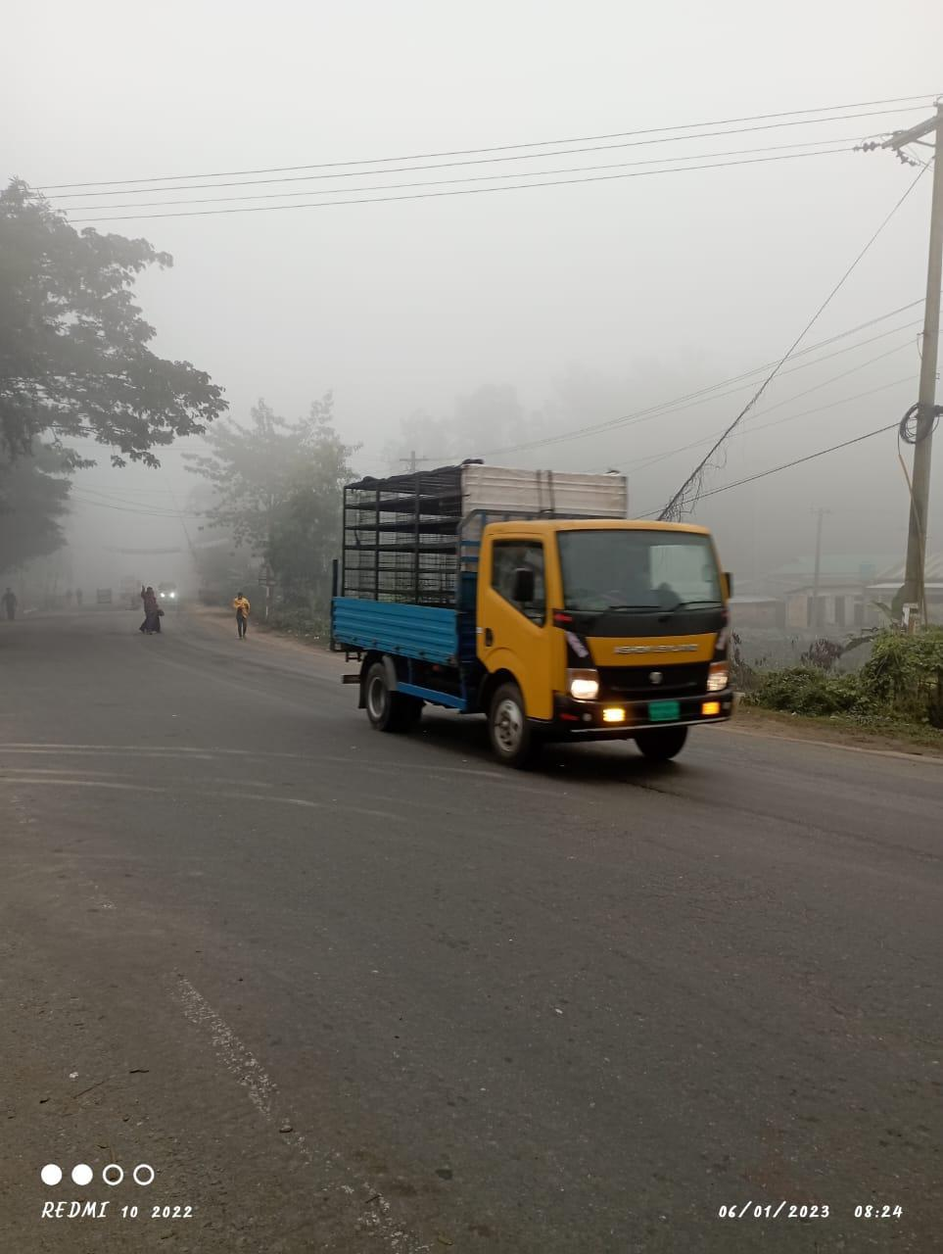Truck: (321, 458, 749, 769)
